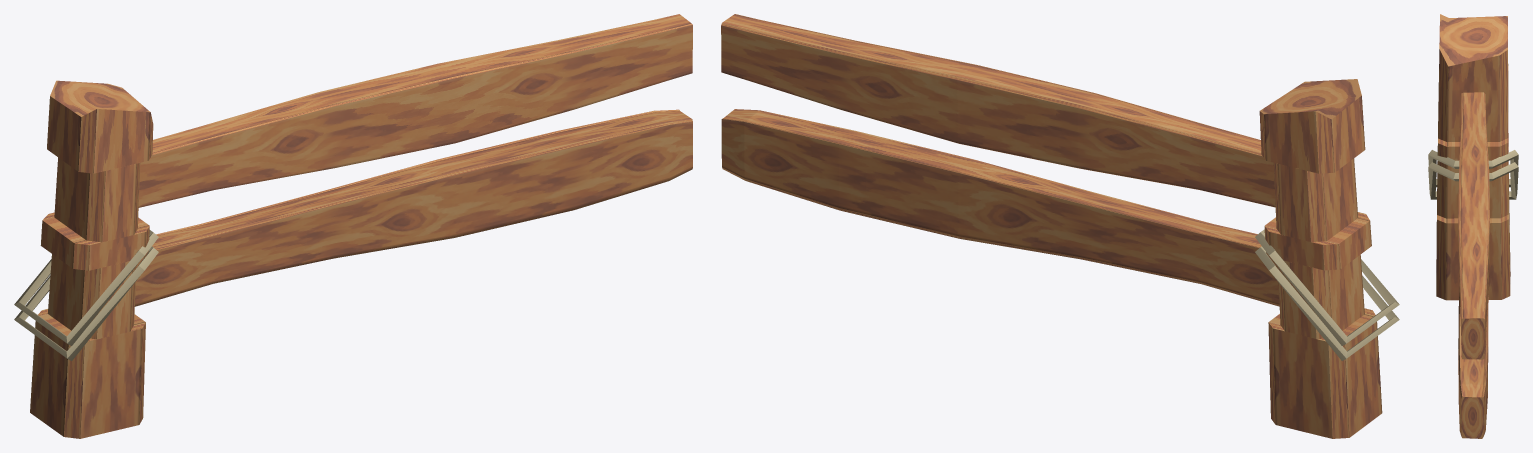
File: fence_w_250_c.glb
3 views of the same model, side by side, from view 1: azimuth 30°, elevation 25°; view 2: azimuth 150°, elevation 25°; view 3: azimuth 270°, elevation 25° (orthographic). The views are drawn at different scales.
Parts seen in each view (by area): view 1: fence_w_250_c; view 2: fence_w_250_c; view 3: fence_w_250_c.
Boxes of the visible parts, <box> form: fence_w_250_c: <box>14,14,692,438</box>; fence_w_250_c: <box>721,14,1399,438</box>; fence_w_250_c: <box>1428,14,1518,438</box>.
Size of the model in its own units: 2.7 by 1.29 by 0.3989.
1 material, 1 textured.
